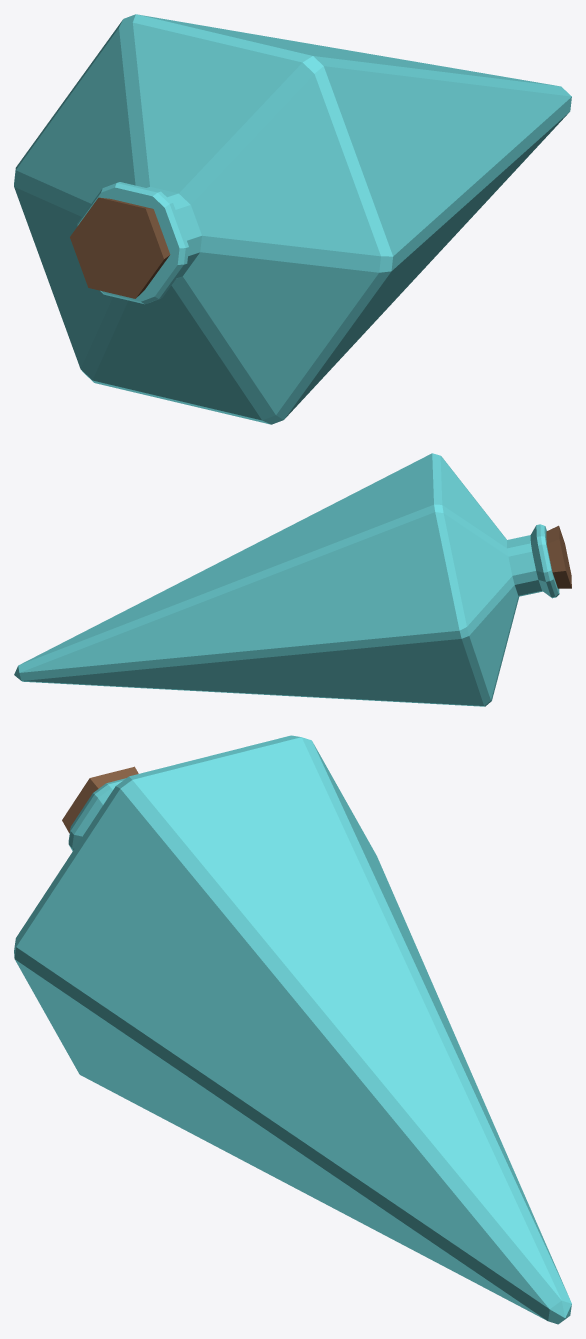
File: Potion_01_Blue.fbx
3 renders of one model, top to bottom at view 1: azimuth 30°, elevation 25°; view 2: azimuth 150°, elevation 25°; view 3: azimuth 270°, elevation 25°, orthographic. The views are drawn at different scales.
Parts seen in each view (by area): view 1: Cone.016, Cylinder.049, Cylinder.048; view 2: Cone.016, Cylinder.048, Cylinder.049; view 3: Cone.016, Cylinder.048, Cylinder.049.
Part boxes in pixels (x1,y1,x2,y2): Cone.016: [14, 14, 571, 424]; Cylinder.049: [70, 197, 170, 298]; Cylinder.048: [77, 182, 201, 304]; Cone.016: [14, 453, 518, 706]; Cylinder.048: [507, 524, 559, 598]; Cylinder.049: [546, 525, 571, 588]; Cone.016: [14, 735, 571, 1324]; Cylinder.048: [68, 778, 125, 851]; Cylinder.049: [62, 766, 138, 833].
Bounding box in the file's own units: 31.74 × 14.47 × 22.3.
